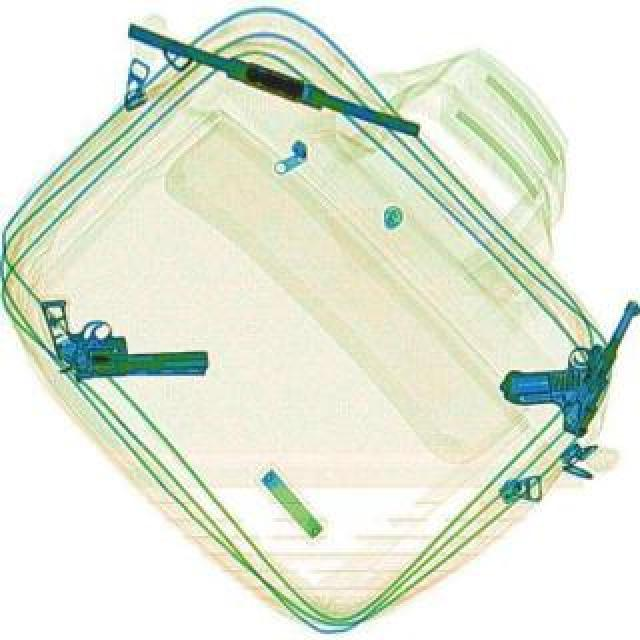gun: (488, 264, 640, 440), (38, 296, 208, 382)
